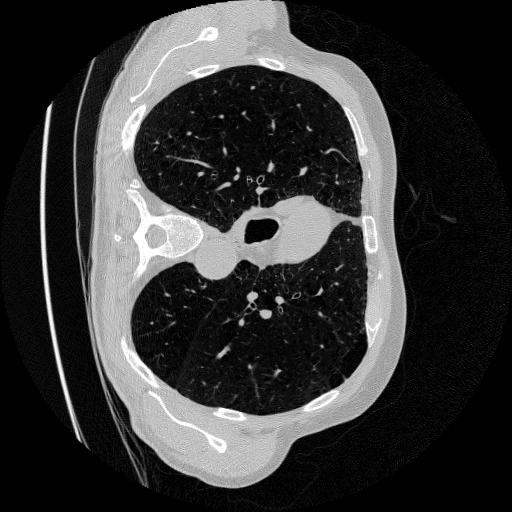nodule: (248, 83, 259, 94)
